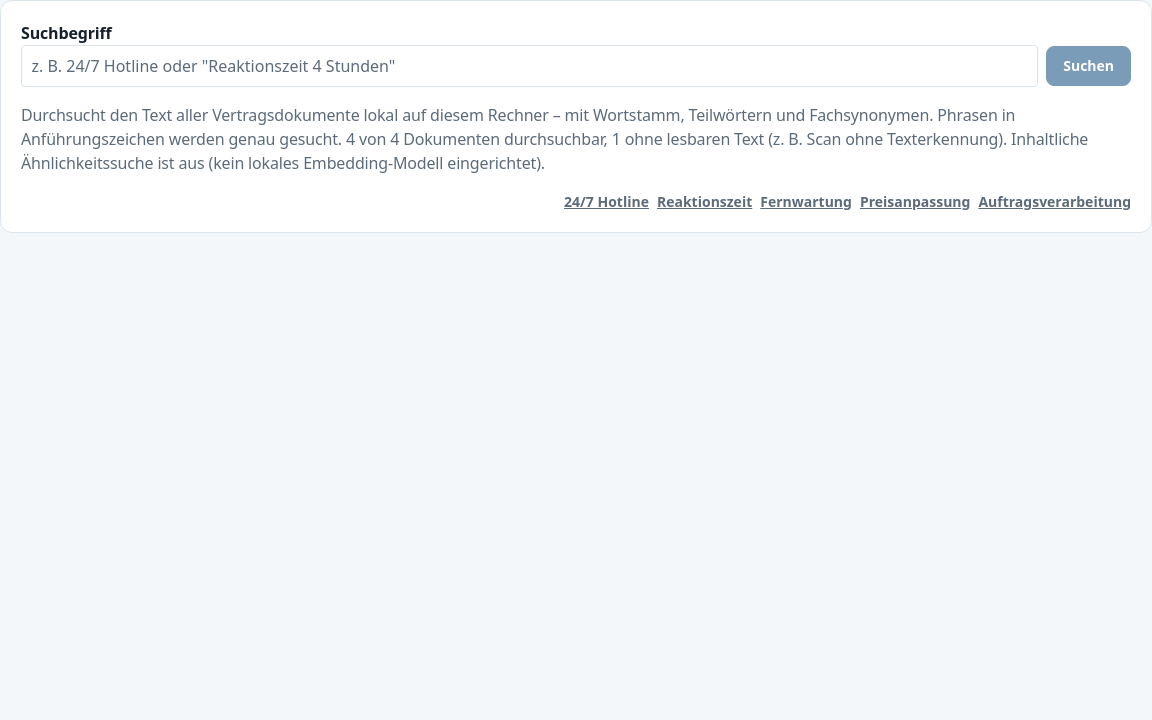
Test case: Inhaltssuche › sucht lokal und verlinkt jeden Treffer mit Dokument und Seite
Expected: the text "4 von 4 Dokumenten durchsuchbar, 1 ohne lesbaren Text" is shown, x1=346 y1=128 x2=1011 y2=150
Expected: the text "Ähnlichkeitssuche ist aus" is shown, x1=21 y1=128 x2=1088 y2=174
Type "24/7 Hotline" into the search field labelled "Suchbegriff" at (530, 66), box x1=21 y1=45 x2=1038 y2=87
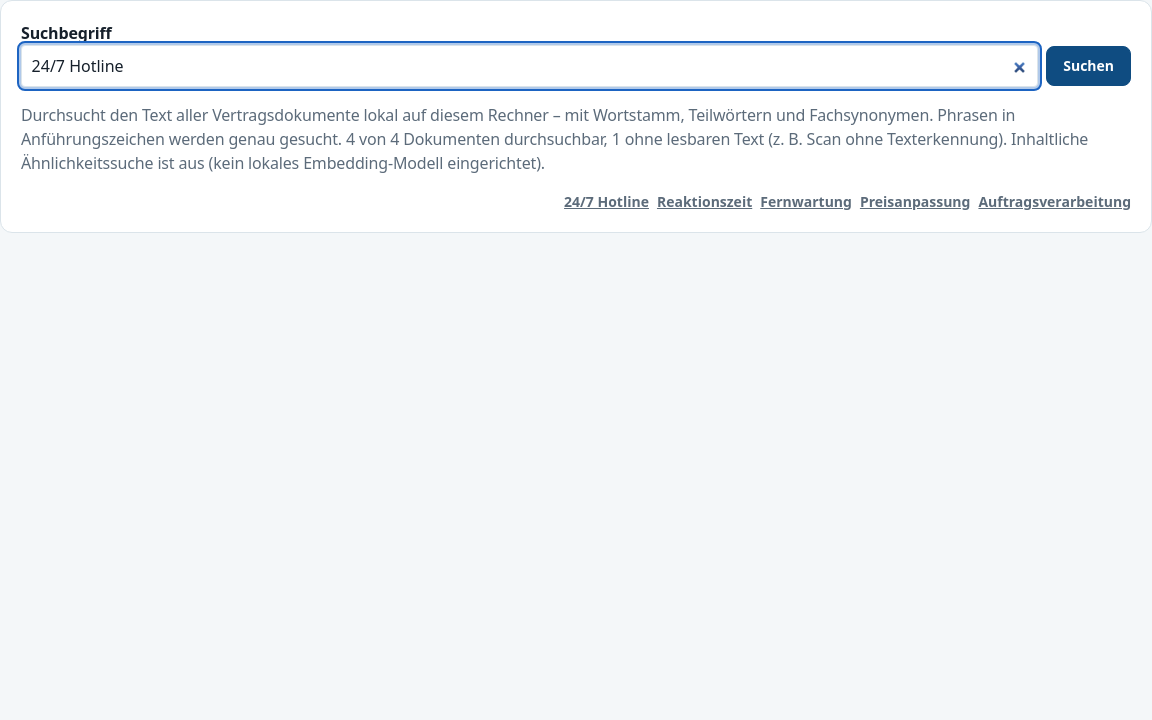
Click the button "Suchen" at (1089, 66), box x1=1046 y1=46 x2=1131 y2=86
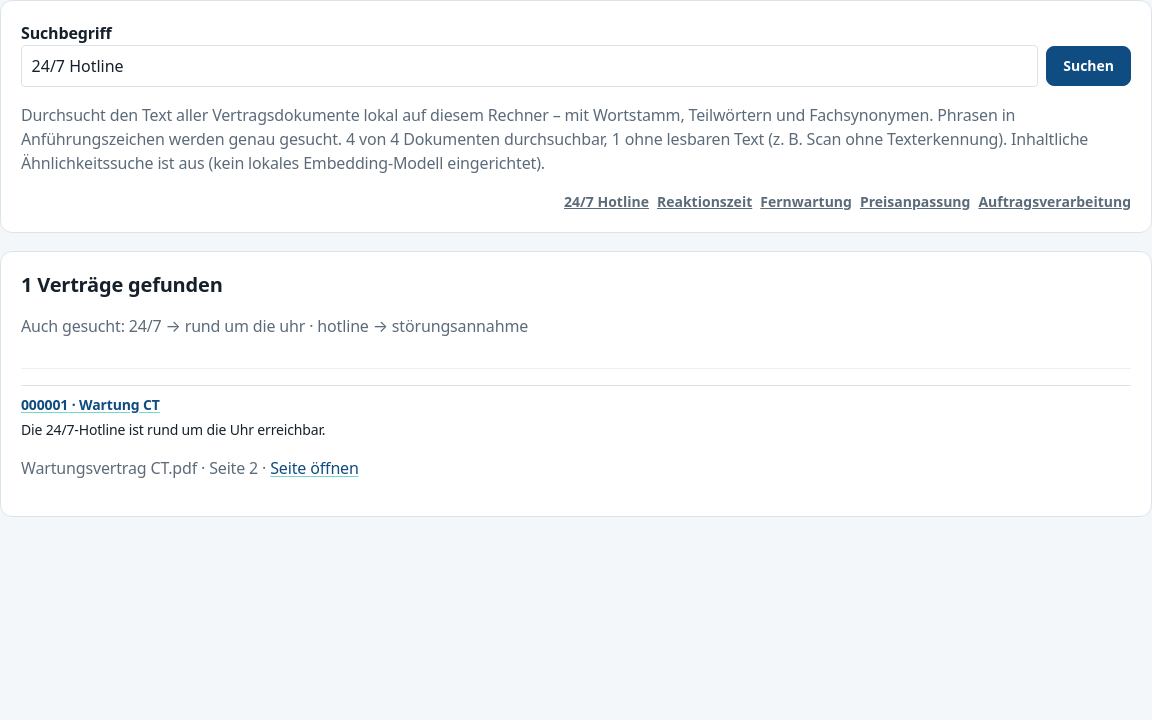
Now the text "24/7 → rund um die uhr" is shown, box x1=129 y1=315 x2=528 y2=337
Now the text "Die 24/7-Hotline ist rund um die Uhr erreichbar." is shown, box x1=21 y1=420 x2=325 y2=439
